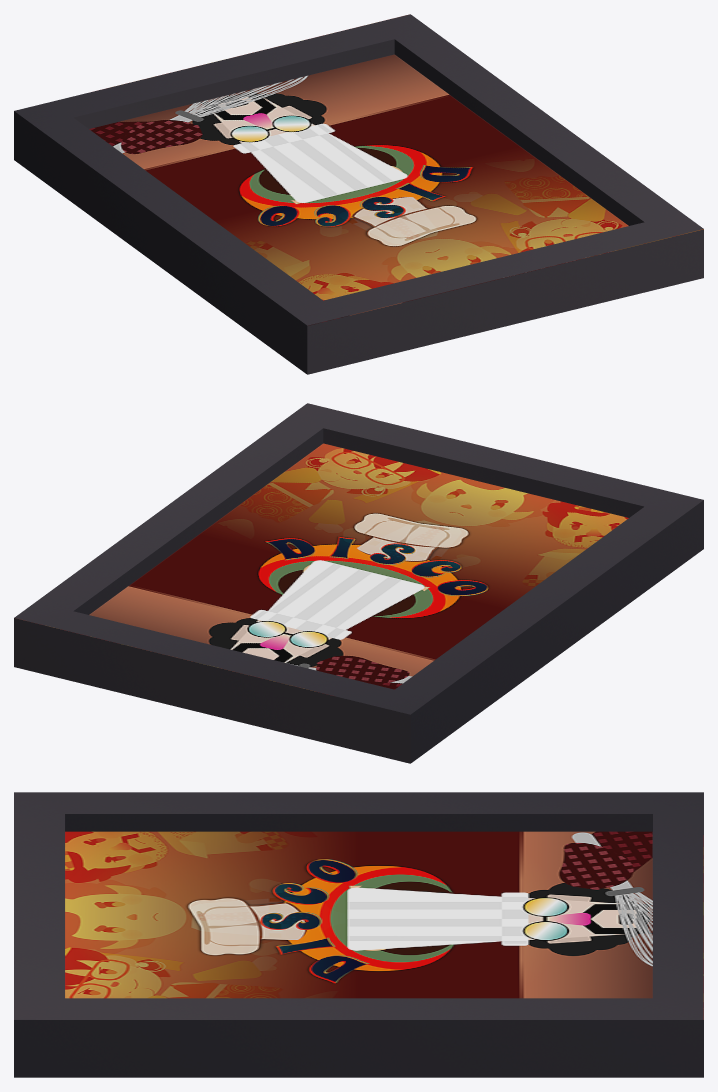
Rendered from cadre.fbx.
3 renders of one model, top to bottom at view 1: azimuth 30°, elevation 25°; view 2: azimuth 150°, elevation 25°; view 3: azimuth 270°, elevation 25°, orthographic. The views are drawn at different scales.
Parts seen in each view (by area): view 1: Cube; view 2: Cube; view 3: Cube.
Part boxes in pixels (<box>): Cube: <box>14,14,703,374</box>; Cube: <box>14,403,703,763</box>; Cube: <box>14,792,703,1077</box>.
Size of the model in its own units: 200 by 23.67 by 256.
